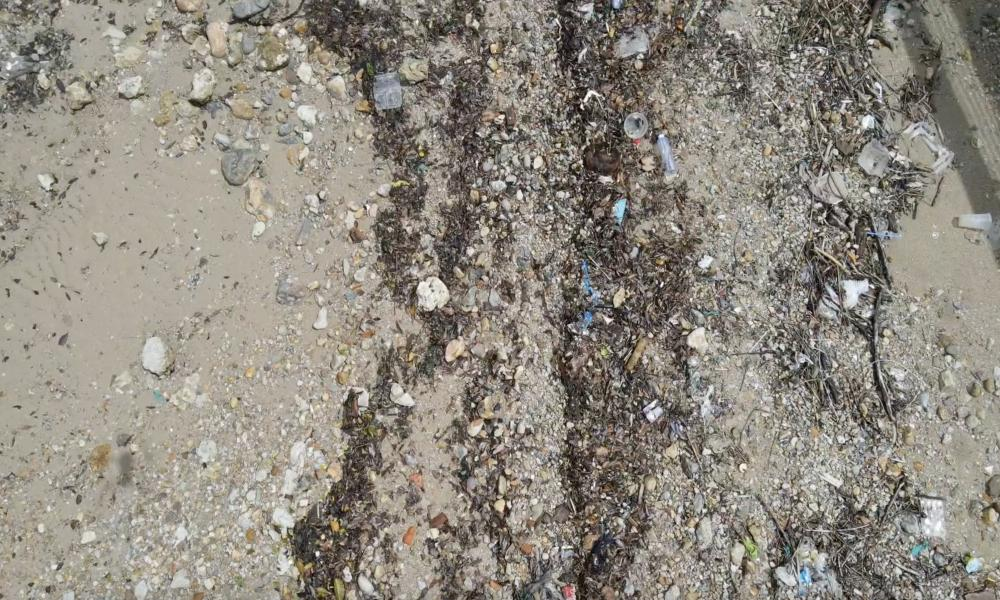plastic bottle: (654, 127, 680, 180)
